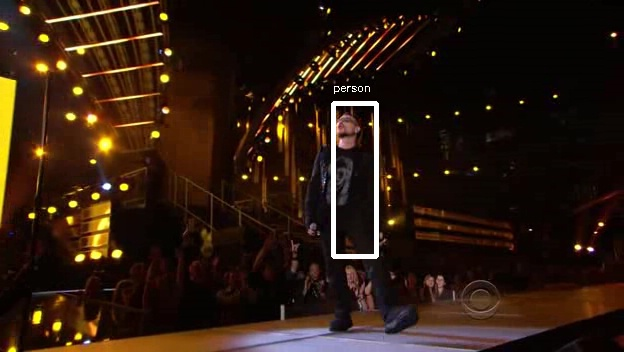person: (307, 114, 378, 231), (304, 114, 375, 231), (310, 114, 381, 231), (307, 111, 378, 228), (307, 117, 378, 234)
target_negative: (424, 298, 595, 348), (299, 234, 372, 347), (258, 79, 286, 347), (408, 14, 414, 309), (158, 321, 262, 325), (170, 315, 232, 317)
